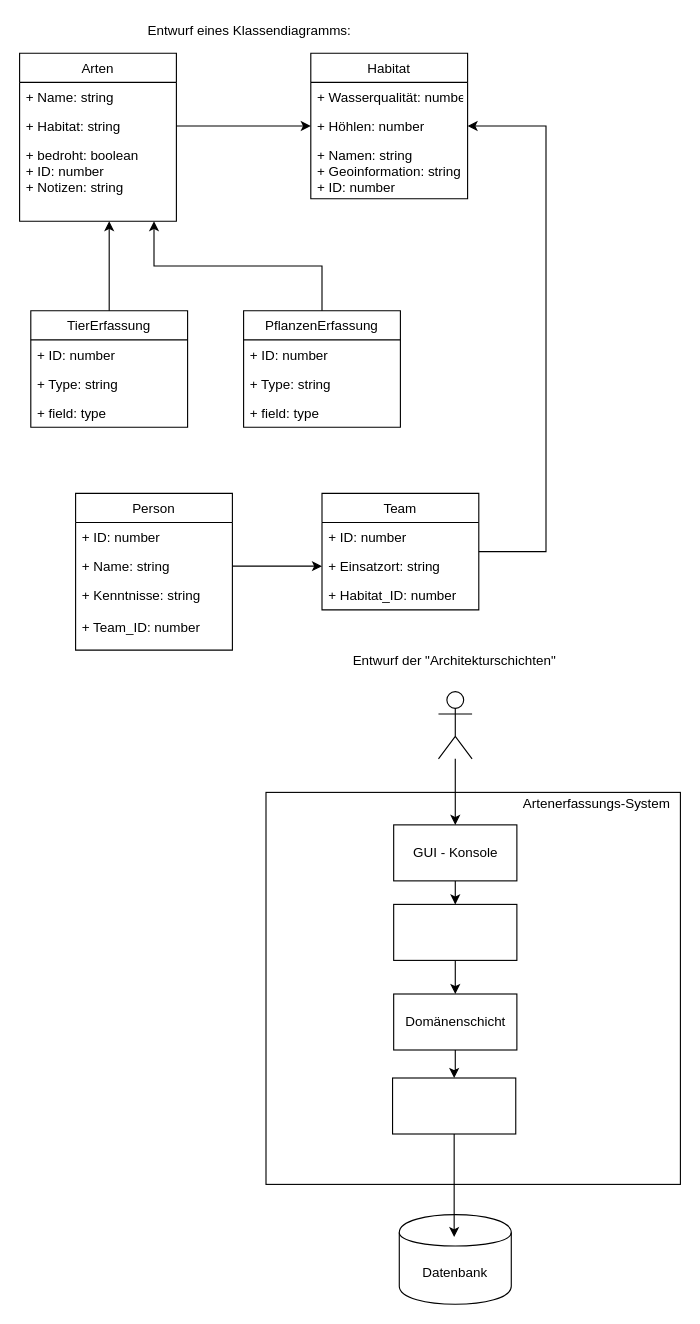
Image size: 700x1324. Some labels were removed from this diagram. The shapes that lost their labels are listed below. From the top down, each one's centre as x and y in pixels, then its label:
point 454,724: Actor
point 455,931: REST-Controller
point 453,1105: Persistentsschicht
